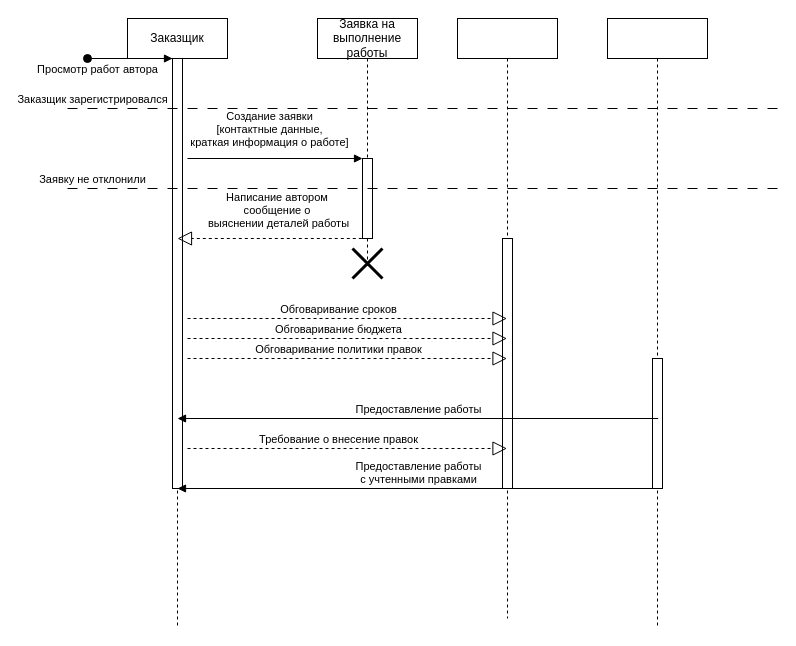
Image size: 796x646. Some labels were removed from this diagram. Each missing label, with the centre of its shape:
Работа: [657,323]
Средство связи: [507,318]
